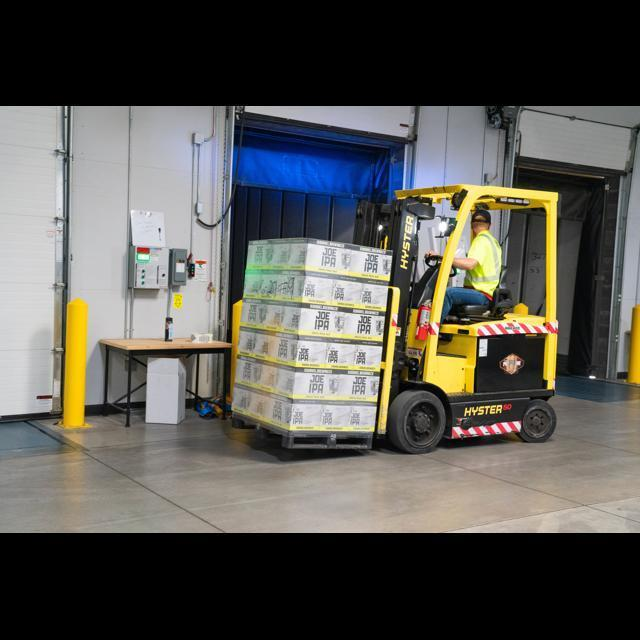safety_vest: (460, 228, 508, 306)
